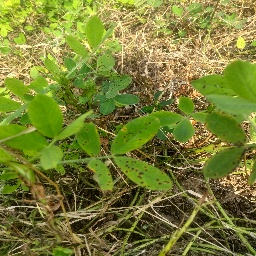GroundNut_Leaf: (188, 63, 253, 101), (115, 156, 172, 191), (110, 115, 160, 154), (25, 94, 62, 136), (204, 109, 248, 144), (203, 147, 244, 180), (77, 122, 101, 157), (89, 160, 113, 190), (85, 15, 103, 51), (40, 146, 66, 170), (173, 118, 196, 144), (110, 75, 133, 91)
